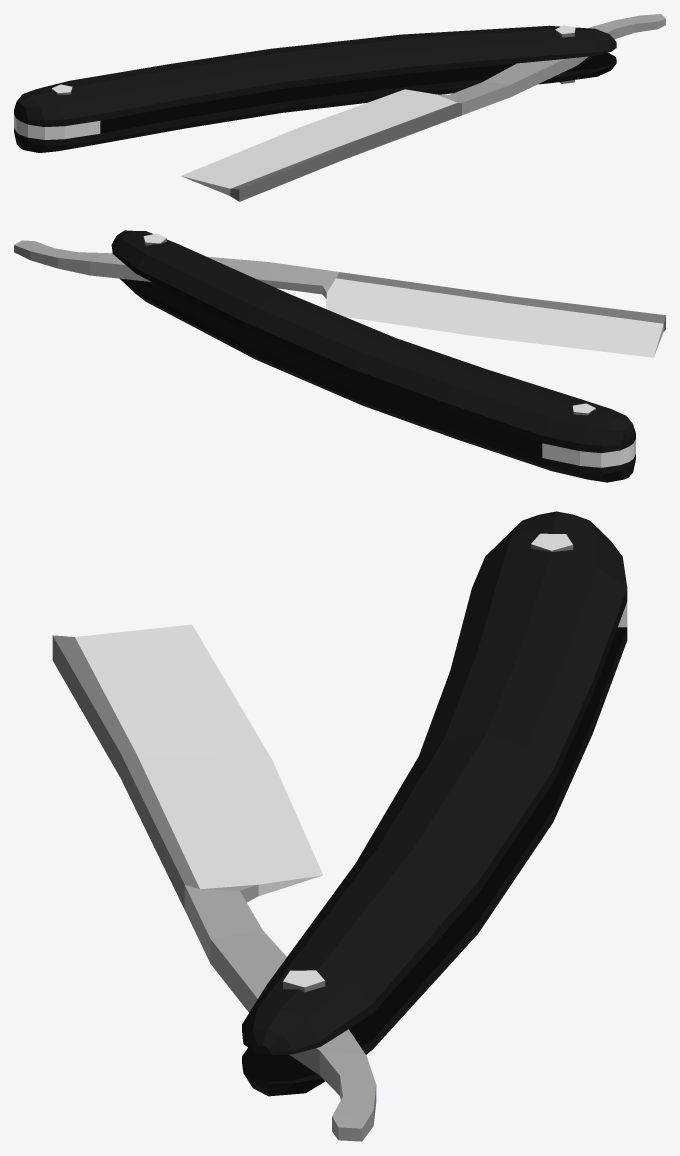
The model's file is WorldItem_CutthroatRazor.fbx.
The picture shows the model from 3 angles, top to bottom: view 1: azimuth 30°, elevation 25°; view 2: azimuth 150°, elevation 25°; view 3: azimuth 270°, elevation 25°; orthographic projection. The views are drawn at different scales.
Visible parts, largest first — view 1: ZomboidCutthroatRazor; view 2: ZomboidCutthroatRazor; view 3: ZomboidCutthroatRazor.
Part boxes in pixels (left/top/right/bottom): ZomboidCutthroatRazor: left=14, top=14, right=665, bottom=201; ZomboidCutthroatRazor: left=14, top=230, right=665, bottom=482; ZomboidCutthroatRazor: left=52, top=511, right=627, bottom=1141.
Size of the model in its own units: 0.1812 by 0.0162 by 0.0759.
